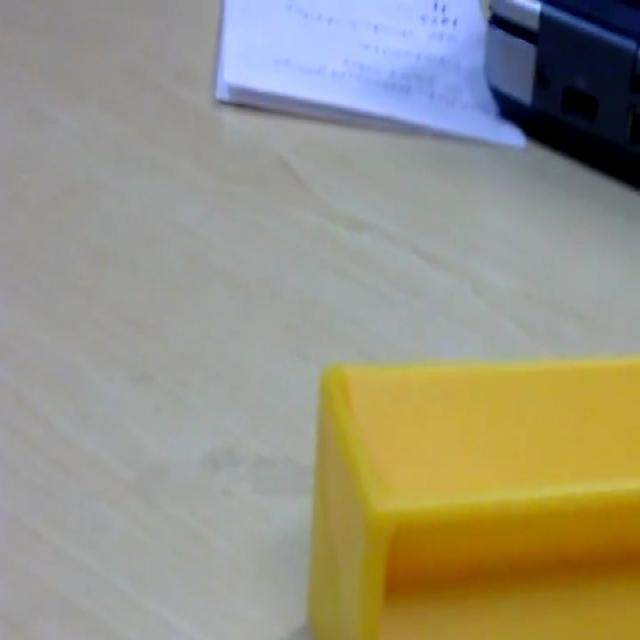yellow_block: (306, 355, 639, 636)
